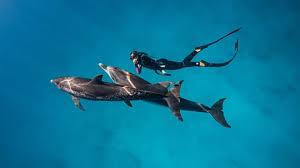swimmer: (95, 58, 235, 131), (46, 70, 187, 124), (131, 21, 246, 79)
